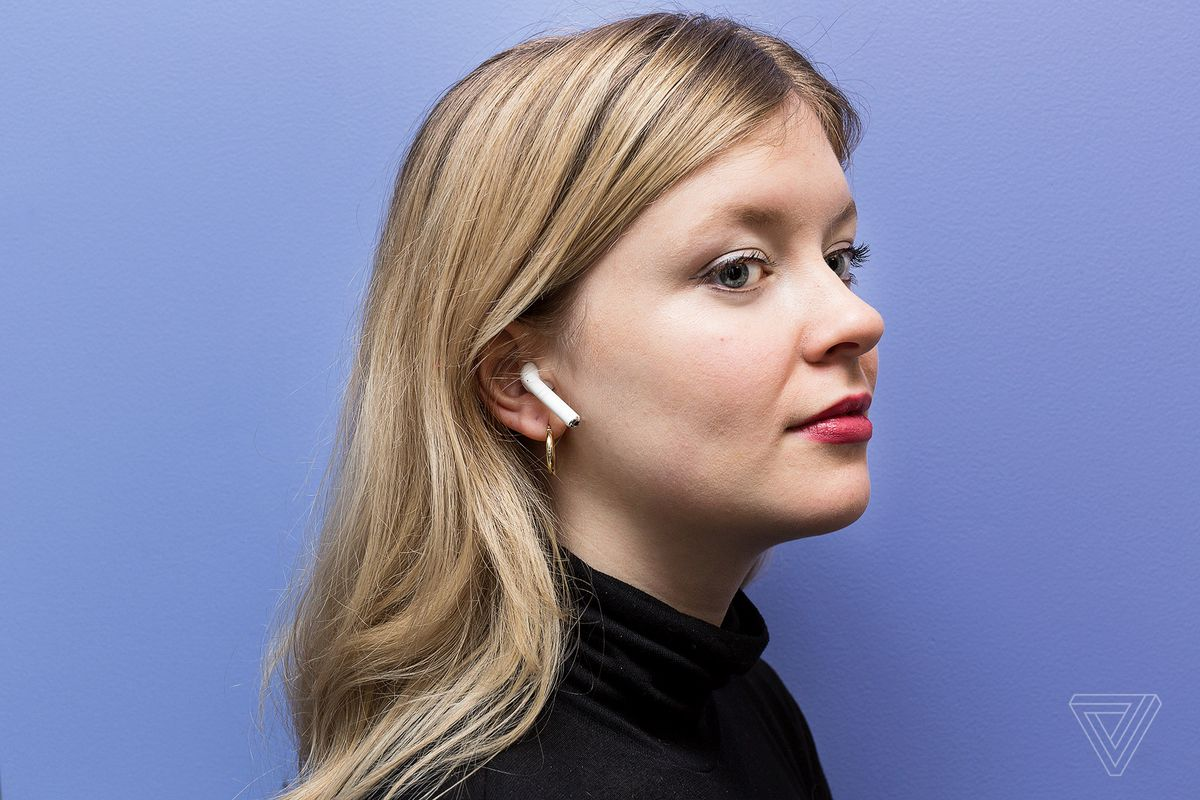earphone: (472, 321, 581, 444)
